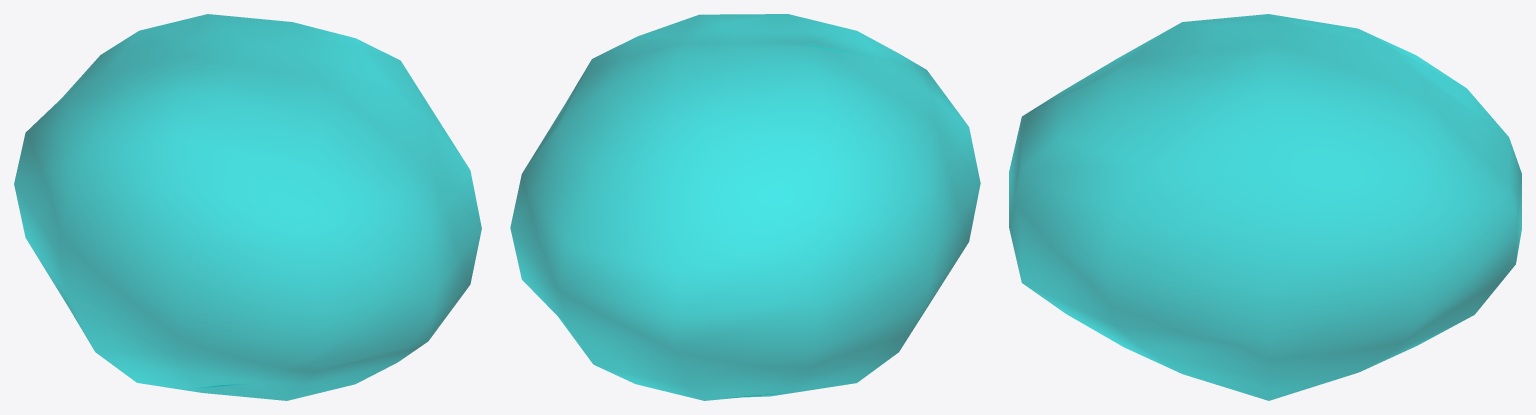
The model's file is WaterBall.fbx.
3 views of the same model, side by side, from view 1: azimuth 30°, elevation 25°; view 2: azimuth 150°, elevation 25°; view 3: azimuth 270°, elevation 25° (orthographic).
Parts seen in each view (by area): view 1: WaterBall; view 2: WaterBall; view 3: WaterBall.
Part boxes in pixels (bbox=[...]): WaterBall: bbox=[14, 14, 481, 400]; WaterBall: bbox=[510, 14, 980, 400]; WaterBall: bbox=[1009, 14, 1521, 400].
Bounding box in the file's own units: 32.72 × 27.92 × 38.94.
